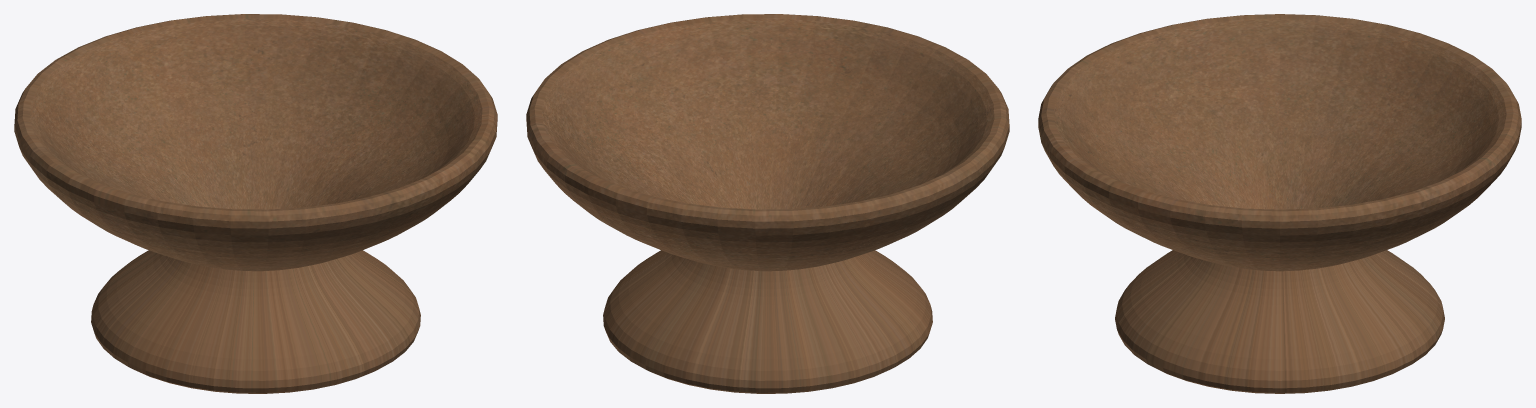
The model's file is bowl.glb.
3 renders of one model, left to right at view 1: azimuth 30°, elevation 25°; view 2: azimuth 150°, elevation 25°; view 3: azimuth 270°, elevation 25°, orthographic.
Visible parts, largest first — view 1: Circle; view 2: Circle; view 3: Circle.
Boxes of the visible parts, left/top/right/bottom form: Circle: left=14, top=14, right=497, bottom=393; Circle: left=526, top=14, right=1009, bottom=393; Circle: left=1038, top=14, right=1521, bottom=393.
Size of the model in its own units: 0.151 by 0.0739 by 0.1511.
1 material, 1 textured.
